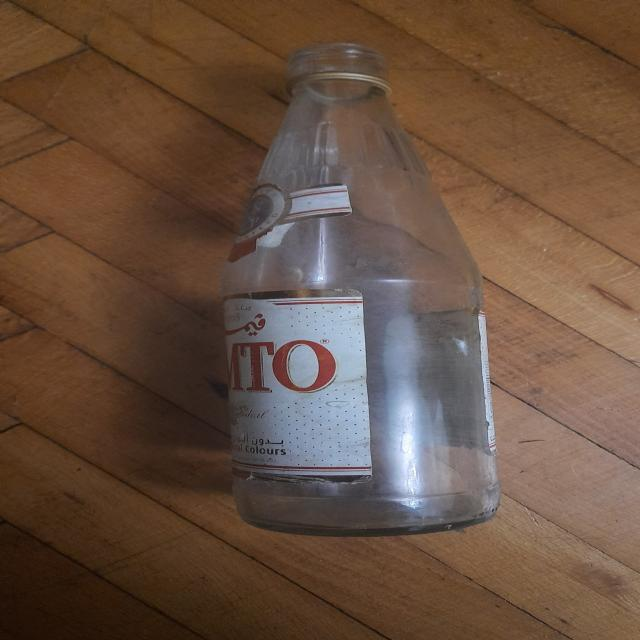glass: (153, 33, 574, 540)
